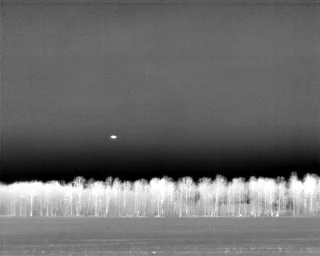DRONE: (107, 131, 120, 143)
